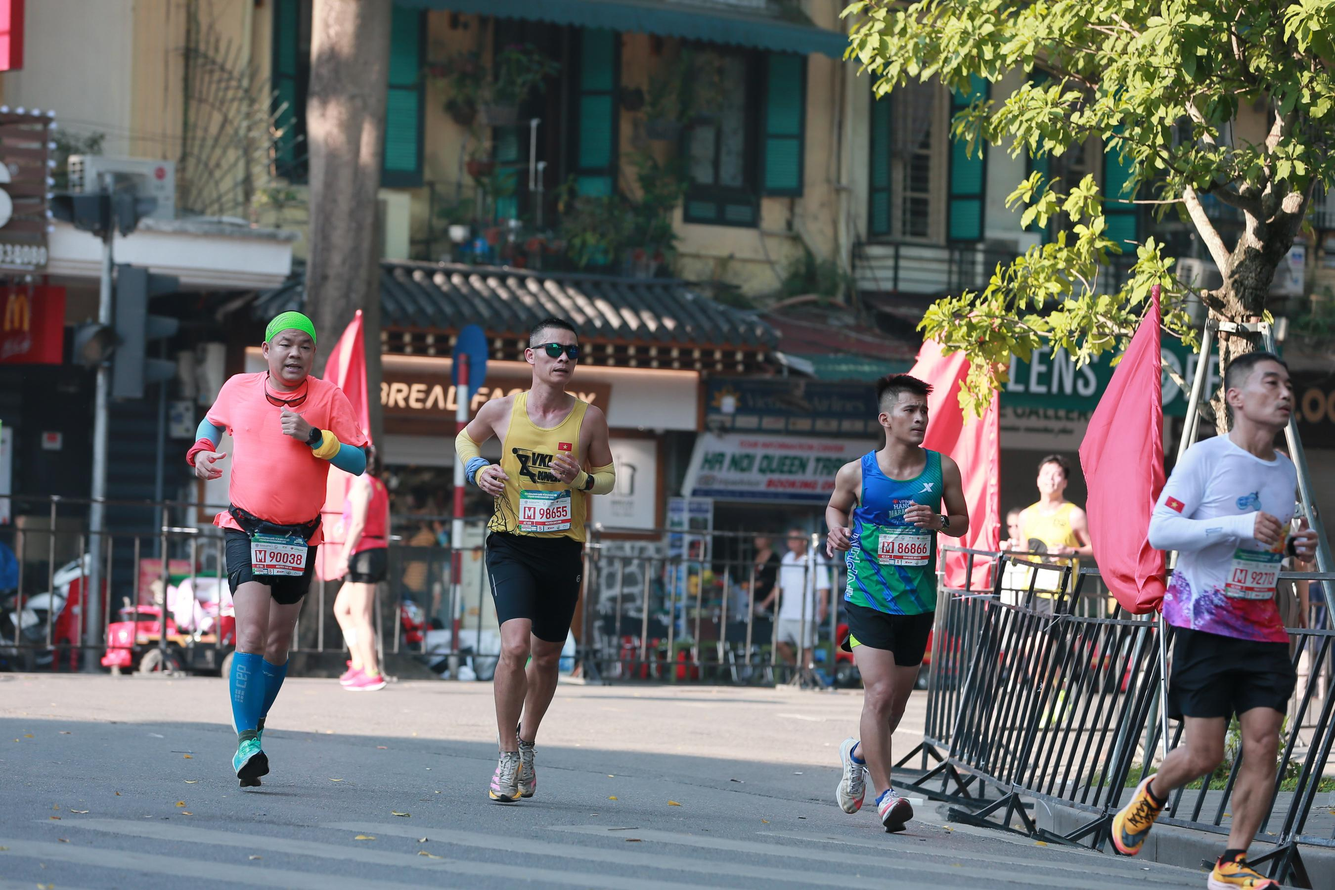bib: (249, 532, 307, 577), (1231, 549, 1281, 601), (519, 489, 573, 534), (878, 525, 930, 566)
